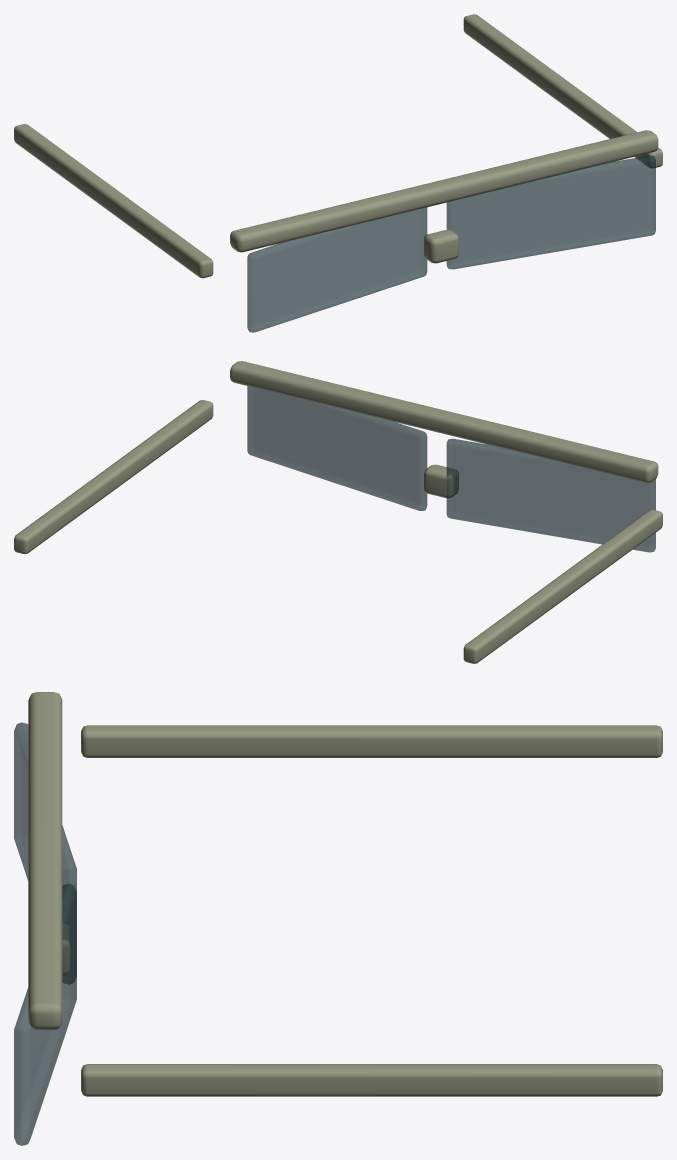
Rendered from glasses_ballistic_CT.glb.
3 renders of one model, top to bottom at view 1: azimuth 30°, elevation 25°; view 2: azimuth 150°, elevation 25°; view 3: azimuth 270°, elevation 25°, orthographic. The views are drawn at different scales.
Visible parts, largest first — view 1: glasses@Head; view 2: glasses@Head; view 3: glasses@Head.
Part boxes in pixels (x1,y1,x2,y2): glasses@Head: (14, 14, 662, 332); glasses@Head: (14, 361, 662, 663); glasses@Head: (14, 692, 662, 1145).
Bounding box in the file's own units: 0.1948 × 0.0385 × 0.1529.
